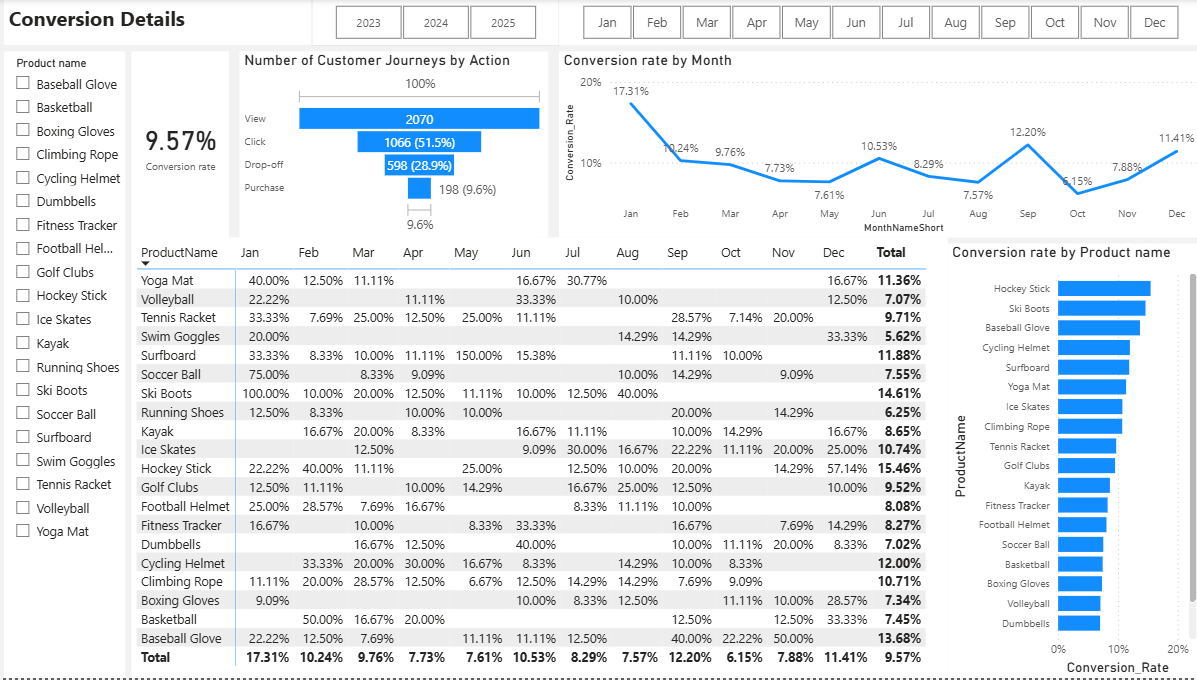

Layout of this report page (visuals, bound fields, positions):
{"tool":"powerbi","page":{"name":"Conversion Details","canvas":[1280,720],"ordinal":1},"visuals":[{"type":"textbox","box":[10.1,0,1269.4,48.8],"z":0},{"type":"slicer","fields":{"Values":["dim_products.ProductName"]},"box":[9.5,55.7,128.8,664.9],"z":1000},{"type":"card","fields":{"Values":["Measure.Conversion_Rate"]},"box":[144.7,55.7,103.4,197.2],"z":2000},{"type":"slicer","fields":{"Values":["Calendar.Year"]},"box":[336.3,0,262.3,48.8],"z":3000},{"type":"slicer","fields":{"Values":["Calendar.MonthNameShort"]},"box":[598.5,0,680.9,48.8],"z":4000},{"type":"lineChart","title":"Conversion rate by Month","fields":{"Y":["Measure.Conversion_Rate"],"Category":["Calendar.MonthNameShort"]},"box":[598.1,55.7,680.8,197.2],"z":5000},{"type":"clusteredBarChart","title":"Conversion rate by Product name","fields":{"Category":["dim_products.ProductName"],"Y":["Measure.Conversion_Rate"]},"box":[1010,259.3,268.8,461.3],"z":6000},{"type":"pivotTable","fields":{"Rows":["dim_products.ProductName"],"Values":["Measure.Conversion_Rate"],"Columns":["Calendar.MonthNameShort"]},"box":[144.7,258.7,857.3,461.3],"z":7000},{"type":"funnel","title":"Number of Customer Journeys by Action","fields":{"Y":["Measure.Number of Customer Journey"],"Category":["fact_customer_journey.Action"]},"box":[259.3,55.7,327.7,197.2],"z":8000}]}

Visuals, with their boxes in screenshot pixels (x1, y1, x2, y2), scaled from the page's 1280x720 canvas onto the 1197x680 screenshot:
textbox: [left=9, top=0, right=1196, bottom=46]
slicer - dim_products.ProductName: [left=9, top=53, right=129, bottom=679]
card - Measure.Conversion_Rate: [left=135, top=53, right=232, bottom=239]
slicer - Calendar.Year: [left=314, top=0, right=560, bottom=46]
slicer - Calendar.MonthNameShort: [left=560, top=0, right=1196, bottom=46]
"Conversion rate by Month" lineChart: [left=559, top=53, right=1196, bottom=239]
"Conversion rate by Product name" clusteredBarChart: [left=945, top=245, right=1196, bottom=679]
pivotTable - dim_products.ProductName x Measure.Conversion_Rate: [left=135, top=244, right=937, bottom=679]
"Number of Customer Journeys by Action" funnel: [left=242, top=53, right=549, bottom=239]
